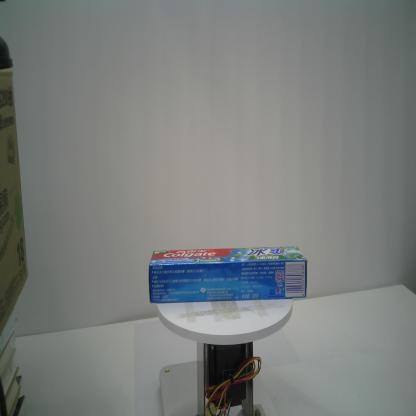Personal Hygiene: (149, 246, 307, 303)
